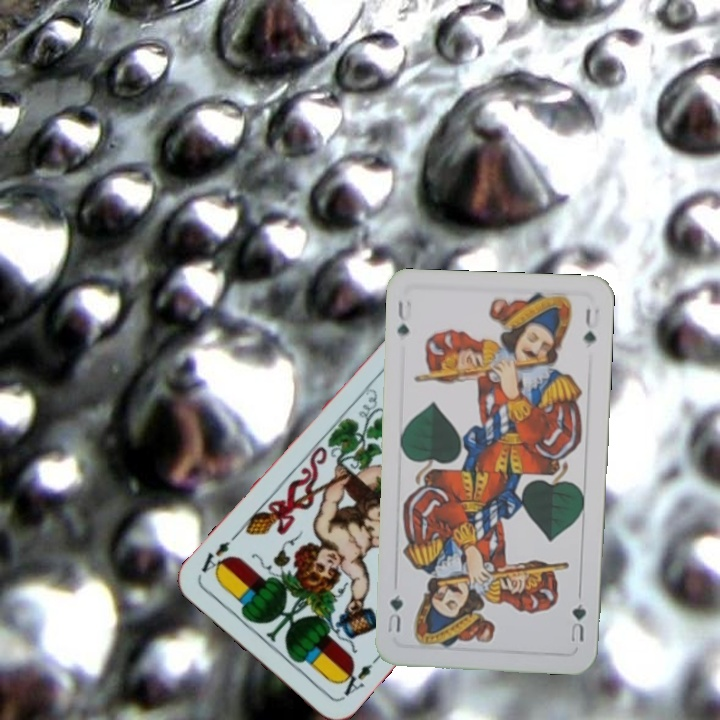EA: (333, 653, 381, 702)
GU: (566, 600, 589, 645), (393, 296, 414, 339)
